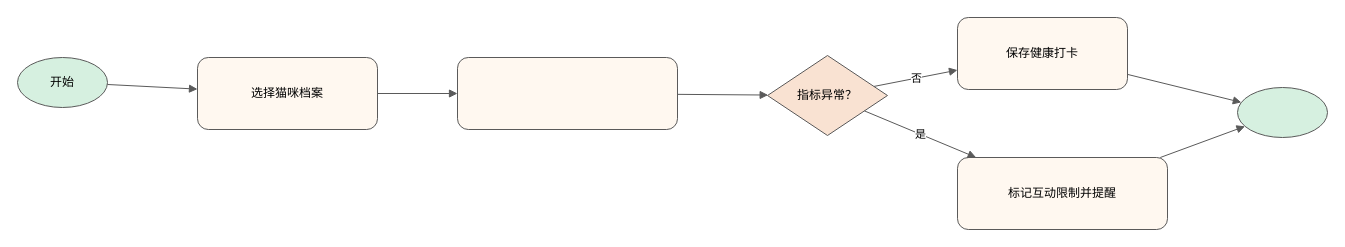
The diagram is 1345 pixels wide and 247 high, and some of its shapes have lost their labels. The box of each missing label's shape, as (x1, y1, x2, y2) in pixels:
录入体温/食量/情绪: (456, 56, 678, 130)
结束: (1236, 86, 1328, 138)
